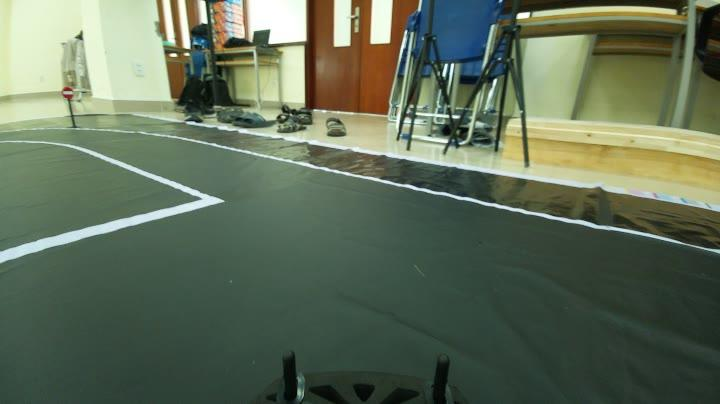no_entry: (58, 86, 79, 100)
